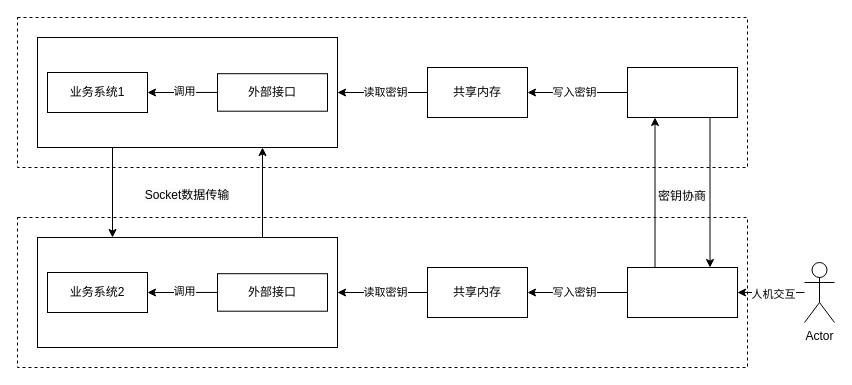
Some shapes in this 852 by 385 pixel diagram are drawn without their labels. The centre of each missing label's shape, as x and y in pixels:
"密钥客户端" belongs at point 682,292.
"密钥服务器" belongs at point 682,92.
